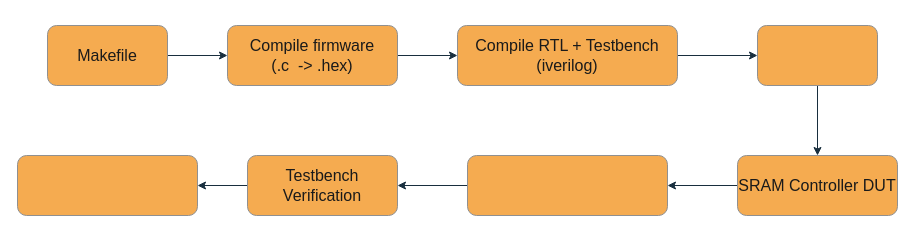
This 915x233 diagram has some shape labels left out. The shapes that lost their labels are listed below. From the top down, each one's centre as x and y in pixels, then its label:
At (x=817, y=55): "Simulation (vpp)".
At (x=107, y=185): "PASS/FAIL Result".
At (x=567, y=185): "Execute Code from SRAM".
